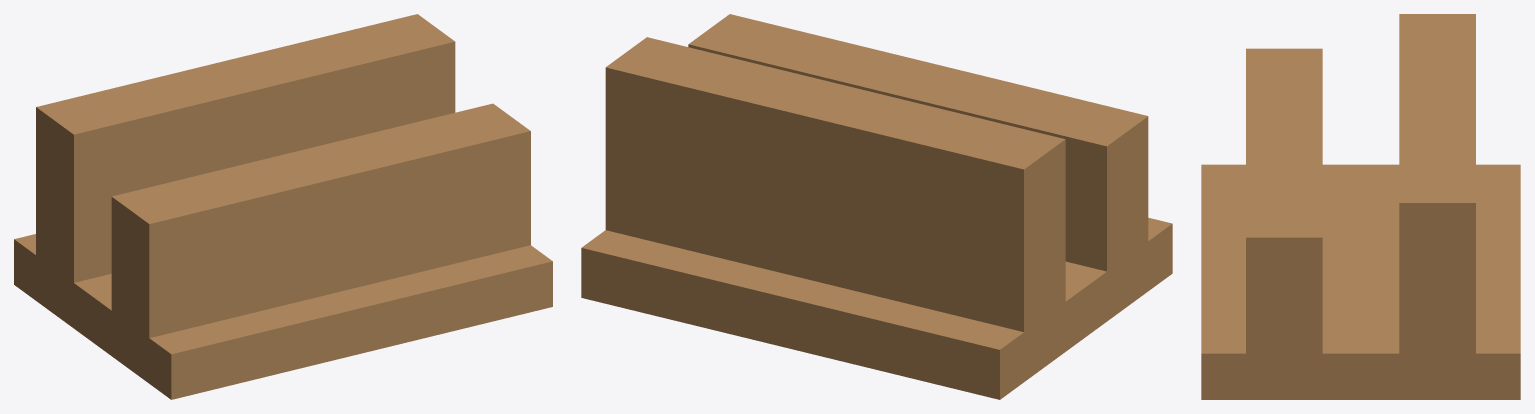
The model's file is tabletop-game-components-card-stand-de463d7b__20871.glb.
The picture shows the model from 3 angles, left to right: view 1: azimuth 30°, elevation 25°; view 2: azimuth 150°, elevation 25°; view 3: azimuth 270°, elevation 25°; orthographic projection. The views are drawn at different scales.
Parts seen in each view (by area): view 1: card-stand; view 2: card-stand; view 3: card-stand.
Boxes of the visible parts, x1,y1,x2,y2 form: card-stand: (14,14,552,399); card-stand: (581,14,1172,399); card-stand: (1201,14,1520,399).
Bounding box in the file's own units: 0.035 × 0.017 × 0.025.
